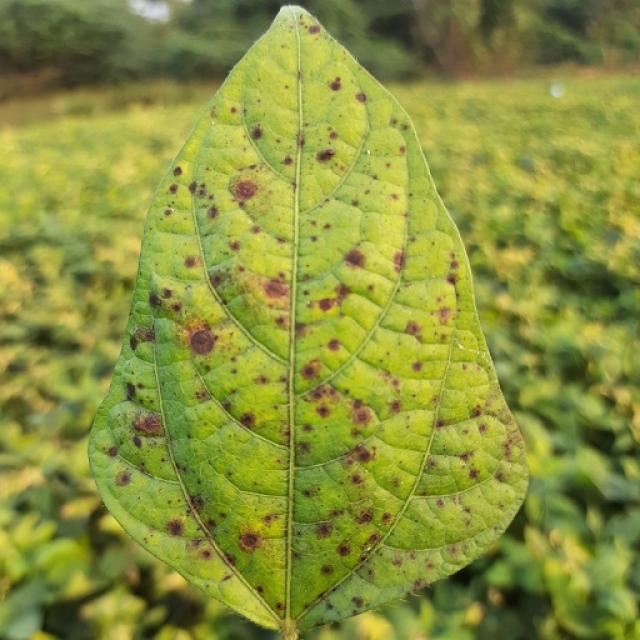Anthracnose: (296, 122, 363, 202), (226, 164, 292, 228), (304, 273, 359, 323), (109, 451, 167, 487), (175, 322, 226, 362), (308, 578, 345, 607), (133, 413, 162, 436), (130, 326, 154, 351), (262, 279, 288, 301), (233, 180, 258, 200), (350, 405, 373, 426), (300, 360, 321, 380), (239, 532, 260, 551), (280, 620, 299, 639), (344, 249, 364, 267), (355, 445, 374, 463), (166, 519, 184, 537), (314, 521, 333, 538), (437, 307, 453, 325), (115, 471, 132, 486), (405, 321, 421, 336), (317, 149, 335, 162), (337, 542, 352, 557), (356, 510, 372, 524), (190, 496, 204, 512), (239, 414, 254, 428), (327, 338, 341, 352), (183, 255, 198, 268), (315, 405, 330, 418), (329, 76, 342, 91), (149, 293, 162, 307), (126, 381, 136, 399), (206, 206, 219, 219), (389, 400, 402, 413), (250, 126, 262, 139), (471, 405, 483, 418), (351, 596, 364, 608), (446, 272, 457, 286), (391, 554, 403, 566), (229, 240, 241, 251), (412, 360, 423, 372), (106, 446, 118, 457), (321, 565, 334, 575), (132, 435, 142, 448), (188, 182, 198, 193), (161, 288, 172, 298), (308, 25, 320, 34), (356, 92, 366, 102), (168, 183, 178, 193), (297, 132, 304, 146), (282, 156, 292, 165), (173, 166, 182, 176), (275, 602, 284, 612), (221, 574, 232, 582), (256, 586, 264, 594), (230, 107, 237, 114), (299, 13, 304, 19)
Blackgram: (90, 6, 525, 639)
